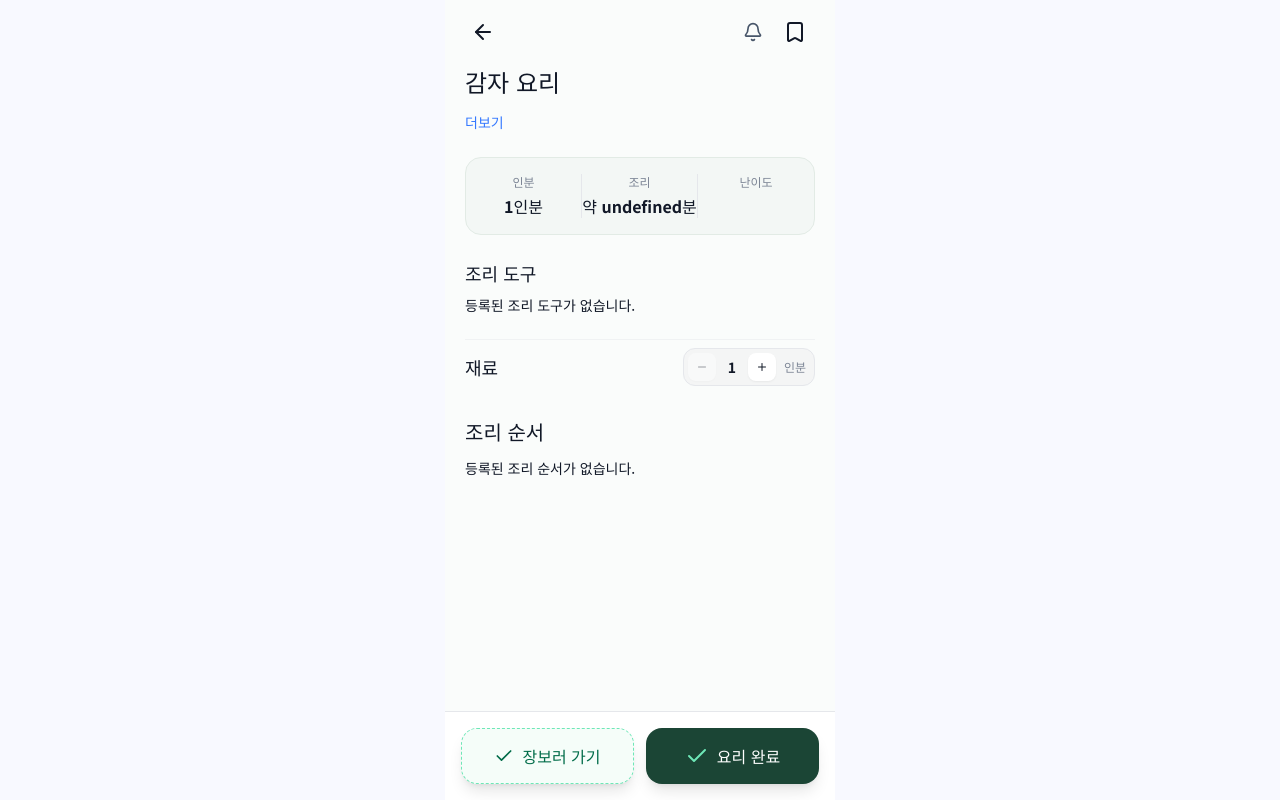
it: completes fridge registration inside the recipe sheet without navigating
The width and height of the screenshot is (1280, 800).
Click the button "장보러 가기". click: {"x": 548, "y": 756}
box: [461,728,634,784]
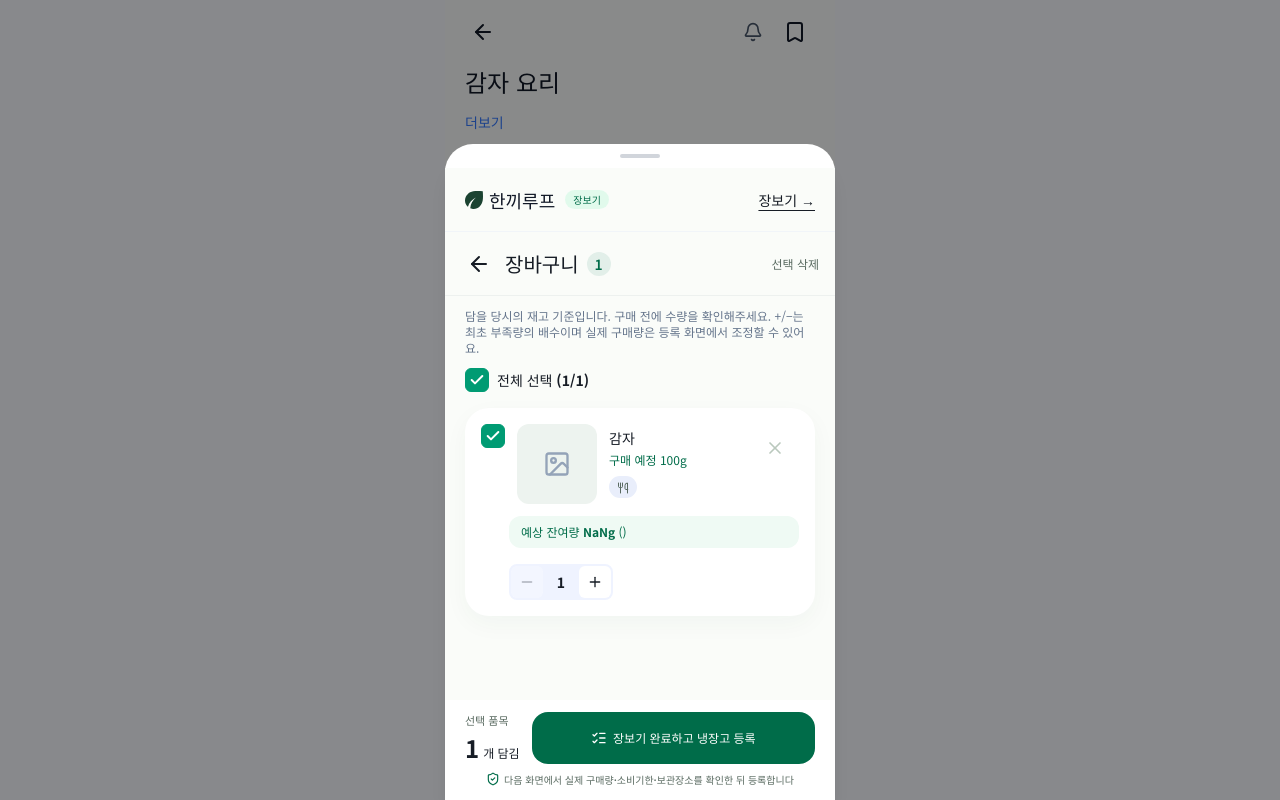
Click the button "장보기 완료하고 냉장고 등록". click: {"x": 673, "y": 738}
box: [532,712,815,764]
(page scrolled)
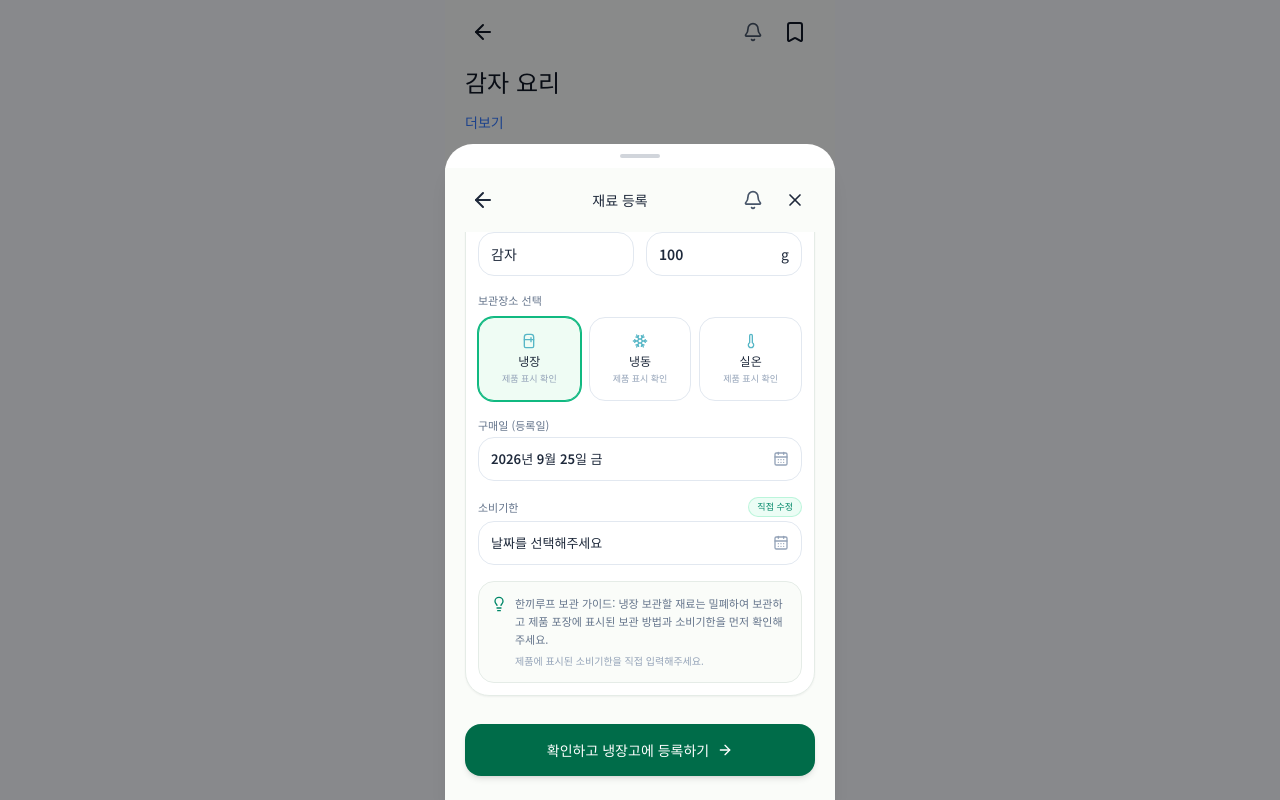
Expected: the dialog "재료 등록" is shown
Type "2099-12-31" into the date field named "소비기한". click: {"x": 547, "y": 542}
box: [478,520,802,564]
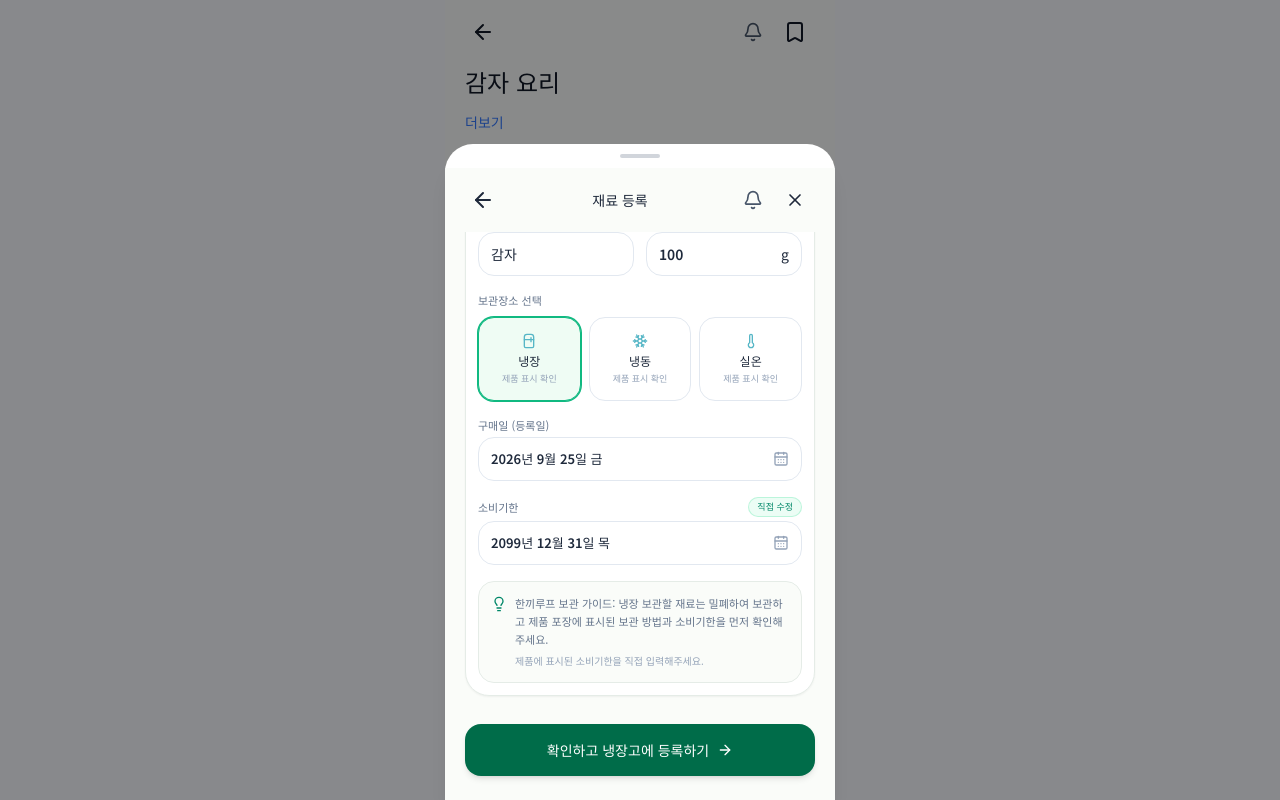
Click the button "확인하고 냉장고에 등록하기". click: {"x": 640, "y": 750}
box: [465,724,815,776]
(page scrolled)
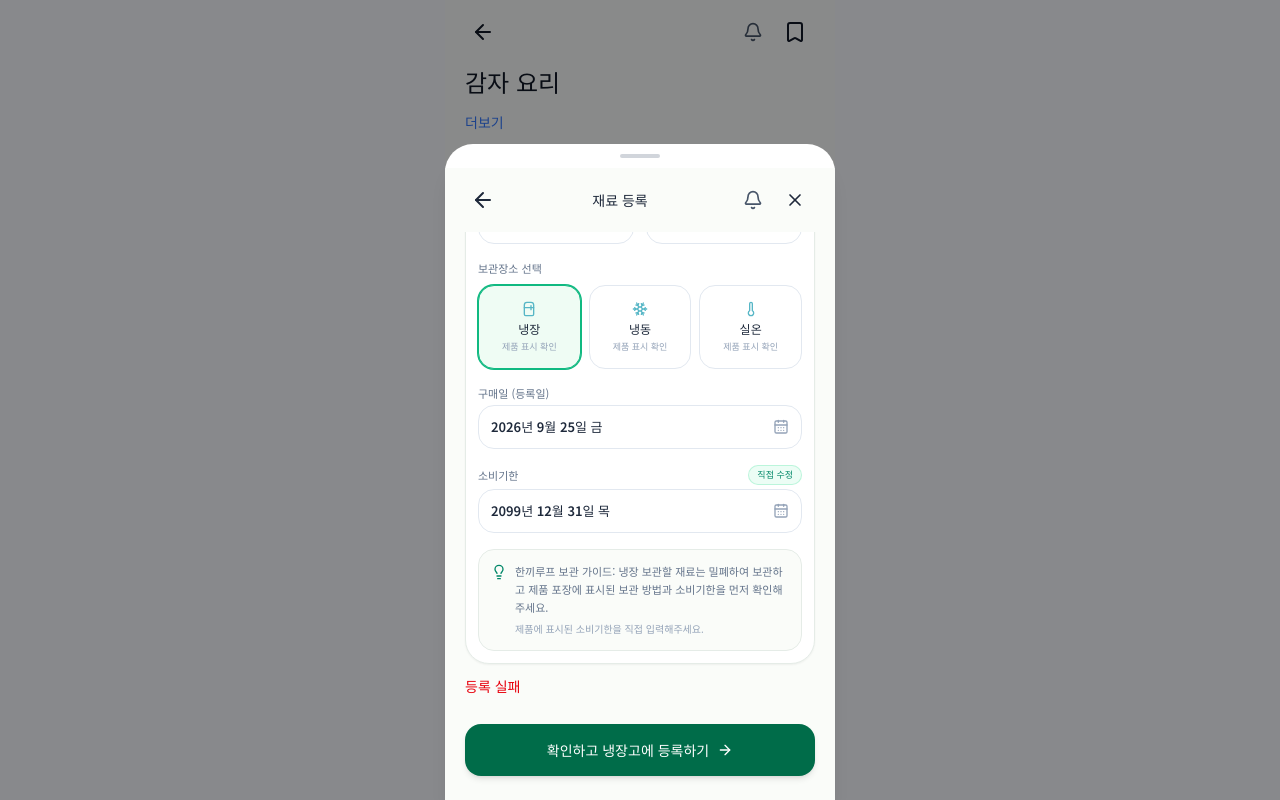
Expected: the dialog "재료 등록" is shown
Expected: the text "등록 실패" is shown, [465,676,520,696]
Click the button "확인하고 냉장고에 등록하기". click: {"x": 640, "y": 750}
box: [465,724,815,776]
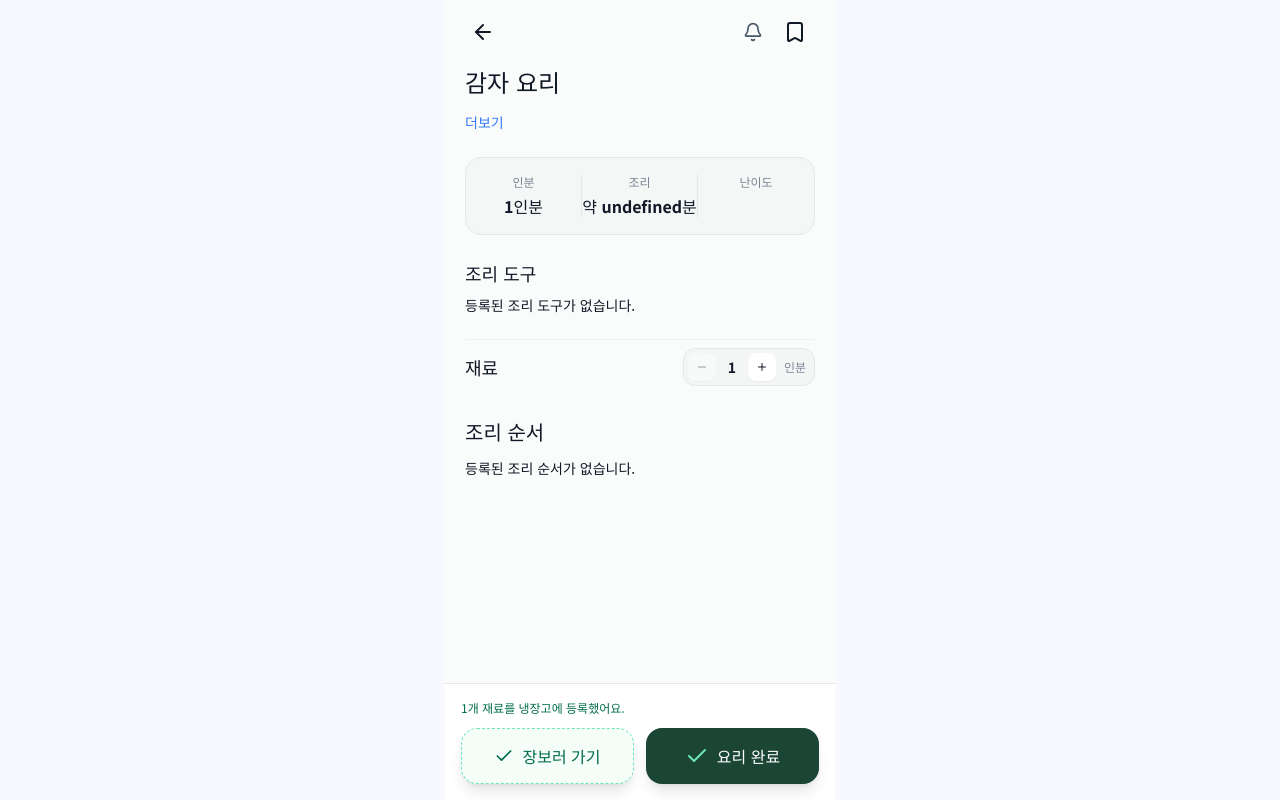
Expected: the dialog is gone
Expected: the text "1개 재료를 냉장고에 등록했어요." is shown, [461,699,625,716]
